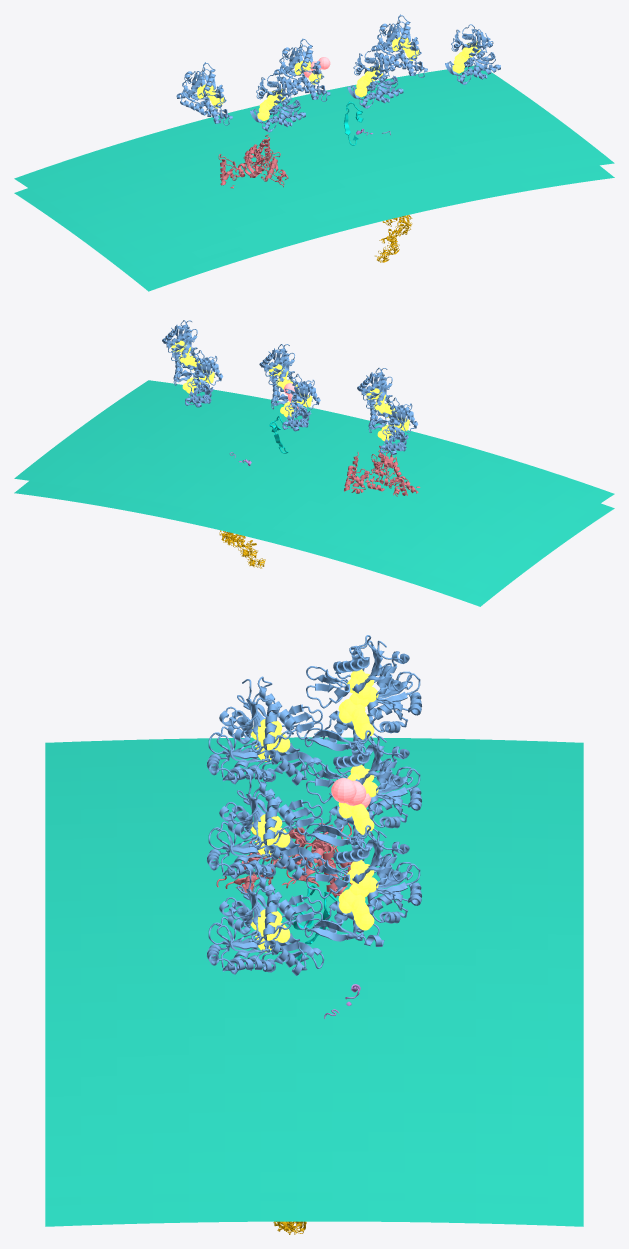
Rendered from 1JCG_assembled_pieces.glb.
The picture shows the model from 3 angles, top to bottom: view 1: azimuth 30°, elevation 25°; view 2: azimuth 150°, elevation 25°; view 3: azimuth 270°, elevation 25°; orthographic projection. The views are drawn at different scales.
Visible parts, largest first — view 1: Piece_MreB_Inner_Membrane, Piece_MreB_Protofilaments, Piece_MreB_ATP_Pockets, Piece_MreB_RodZ_Adaptor, Piece_MreB_PBP2_Transpeptidase; view 2: Piece_MreB_Inner_Membrane, Piece_MreB_Protofilaments, Piece_MreB_ATP_Pockets, Piece_MreB_RodZ_Adaptor, Piece_MreB_PBP2_Transpeptidase; view 3: Piece_MreB_Inner_Membrane, Piece_MreB_Protofilaments, Piece_MreB_ATP_Pockets, Piece_MreB_RodZ_Adaptor, Piece_MreB_A22_Pocket.
Part boxes in pixels (left/top/right/bottom): Piece_MreB_Inner_Membrane: left=14, top=65, right=614, bottom=291; Piece_MreB_Protofilaments: left=176, top=14, right=500, bottom=132; Piece_MreB_ATP_Pockets: left=197, top=36, right=480, bottom=120; Piece_MreB_RodZ_Adaptor: left=218, top=134, right=288, bottom=188; Piece_MreB_PBP2_Transpeptidase: left=375, top=215, right=412, bottom=262; Piece_MreB_Inner_Membrane: left=14, top=380, right=614, bottom=606; Piece_MreB_Protofilaments: left=162, top=320, right=417, bottom=454; Piece_MreB_ATP_Pockets: left=171, top=340, right=409, bottom=441; Piece_MreB_RodZ_Adaptor: left=344, top=445, right=420, bottom=496; Piece_MreB_PBP2_Transpeptidase: left=219, top=530, right=265, bottom=568; Piece_MreB_Inner_Membrane: left=45, top=737, right=583, bottom=1226; Piece_MreB_Protofilaments: left=206, top=635, right=421, bottom=975; Piece_MreB_ATP_Pockets: left=250, top=669, right=378, bottom=952; Piece_MreB_RodZ_Adaptor: left=216, top=823, right=352, bottom=897; Piece_MreB_A22_Pocket: left=331, top=778, right=371, bottom=807.
Bounding box in the file's own units: 22 × 10.05 × 11.
